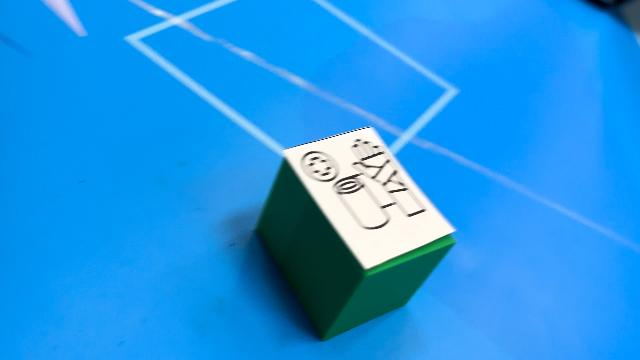bandage: (255, 125, 458, 341)
